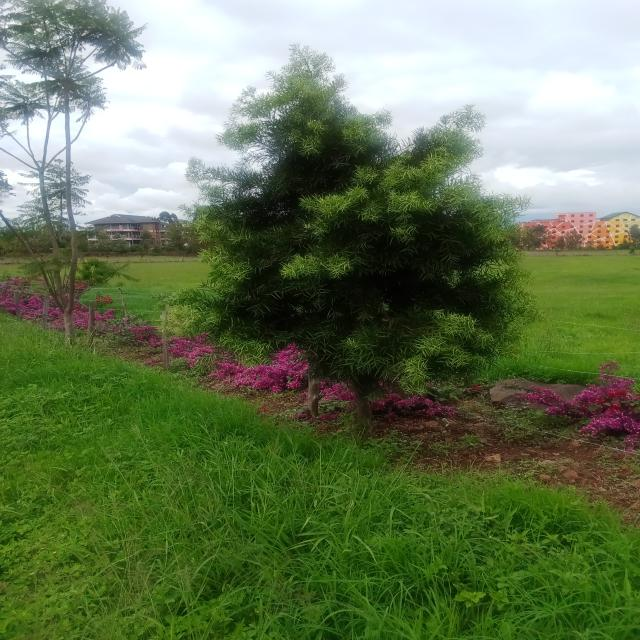Podocarpus falcatus: (172, 47, 550, 424)
